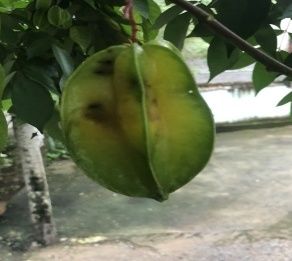Khe: (61, 37, 220, 205)
